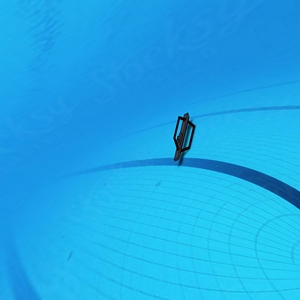submarine: (171, 109, 203, 158)
